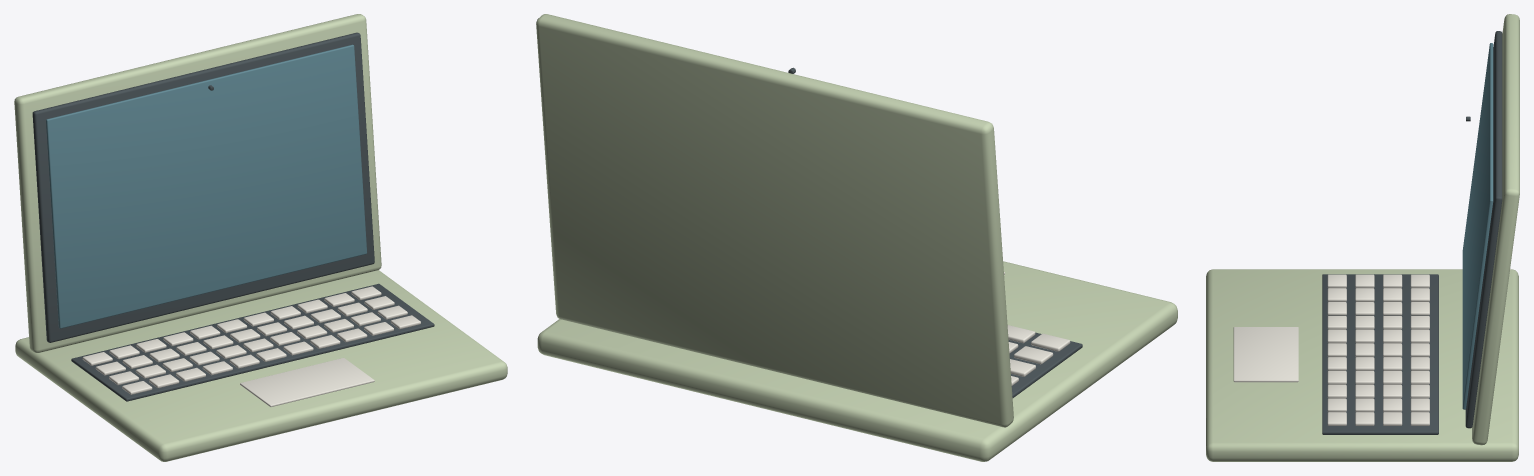
Rendered from laptop.glb.
3 renders of one model, left to right at view 1: azimuth 30°, elevation 25°; view 2: azimuth 150°, elevation 25°; view 3: azimuth 270°, elevation 25°, orthographic. The views are drawn at different scales.
Visible parts, largest first — view 1: laptop; view 2: laptop; view 3: laptop.
Part boxes in pixels (x1=…): laptop: x1=14, y1=14, x2=507, y2=461; laptop: x1=536, y1=14, x2=1177, y2=461; laptop: x1=1206, y1=14, x2=1519, y2=461.
Bounding box in the file's own units: 0.35 × 0.25 × 0.26.
